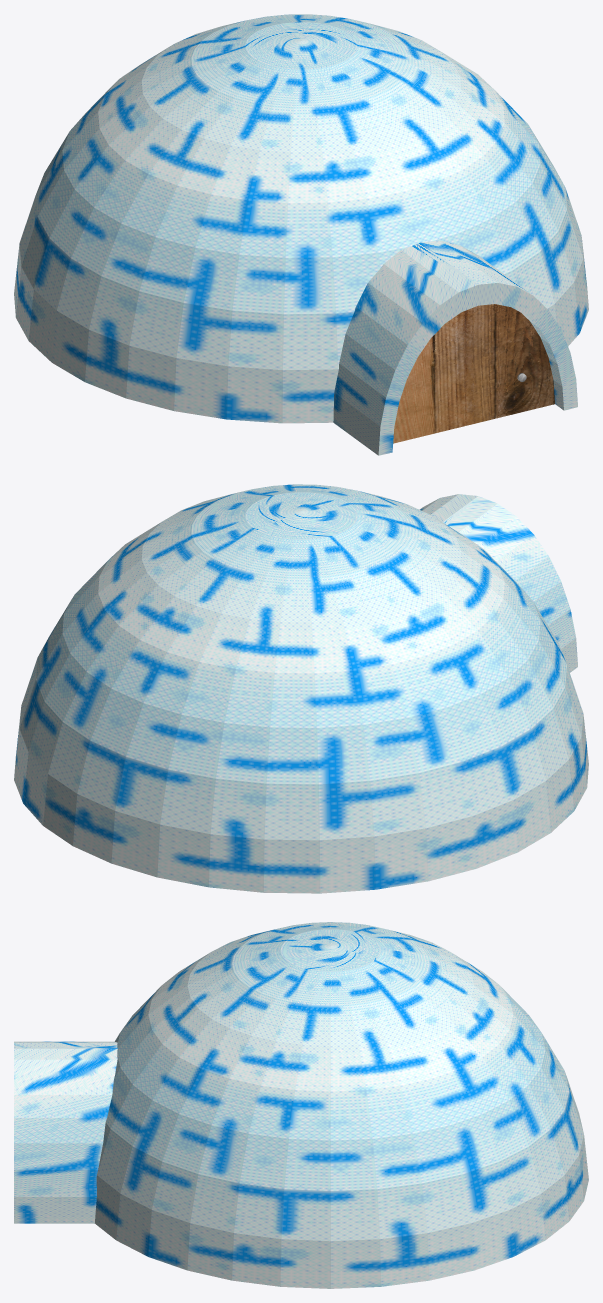
Rendered from House5.fbx.
3 renders of one model, top to bottom at view 1: azimuth 30°, elevation 25°; view 2: azimuth 150°, elevation 25°; view 3: azimuth 270°, elevation 25°, orthographic. The views are drawn at different scales.
Visible parts, largest first — view 1: House 5, Door.002; view 2: House 5, Door.002; view 3: House 5, Door.002.
Boxes of the visible parts, bbox=[...] form: House 5: bbox=[14, 14, 588, 423]; Door.002: bbox=[333, 240, 577, 455]; House 5: bbox=[14, 484, 588, 893]; Door.002: bbox=[419, 494, 577, 672]; House 5: bbox=[94, 922, 588, 1288]; Door.002: bbox=[14, 1041, 117, 1223].
Size of the model in its own units: 76.8 by 38.44 by 85.54.
